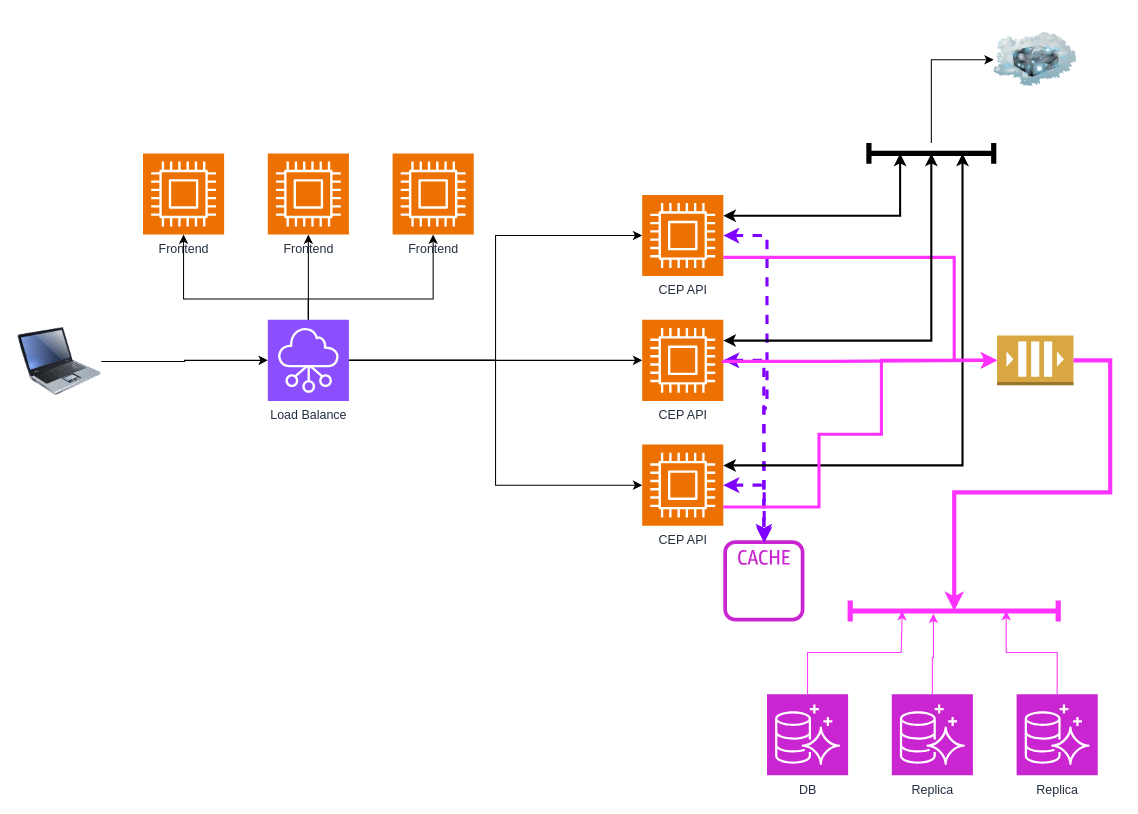
The diagram is 1138 pixels wide and 814 high, and some of its shapes have lost their labels. Here are the shapes that lost their labels. From the top down, the box of each, then its label:
(993, 18, 1076, 101): API Externa
(18, 319, 101, 402): Client/Browser
(996, 334, 1073, 385): Queue
